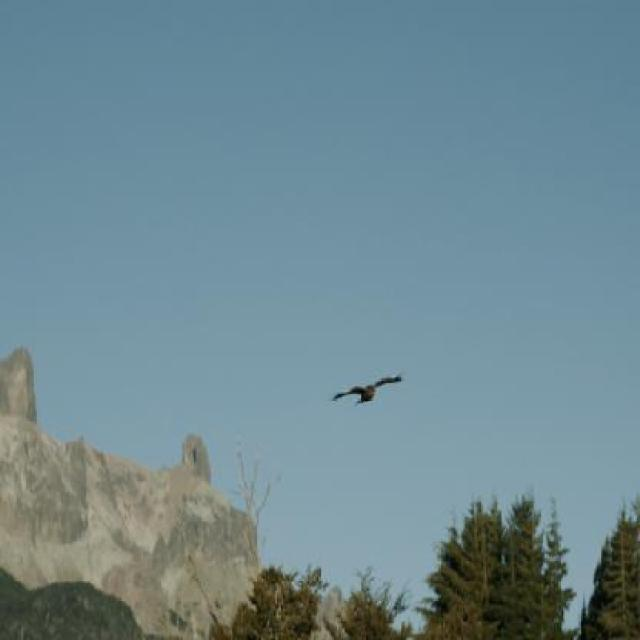bird: (328, 370, 404, 416)
